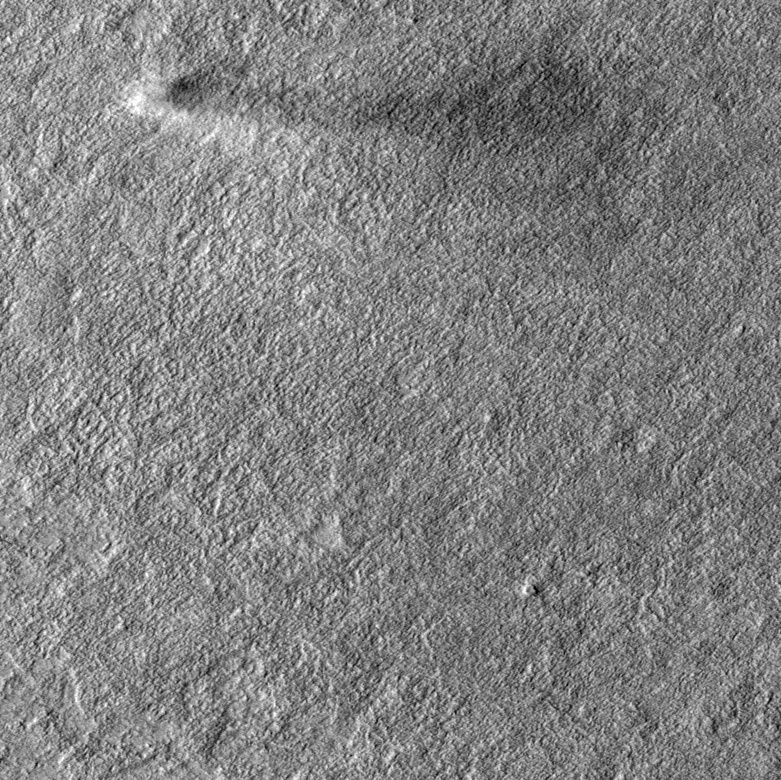dust_devil: (119, 55, 610, 170)
